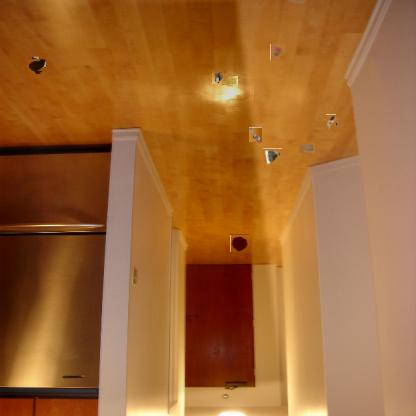dirty: (262, 148, 282, 165), (270, 44, 285, 60), (248, 127, 262, 142), (212, 70, 226, 84), (224, 73, 236, 87), (299, 143, 315, 153), (325, 116, 338, 128)
liquid: (230, 234, 249, 252), (30, 58, 44, 72)
